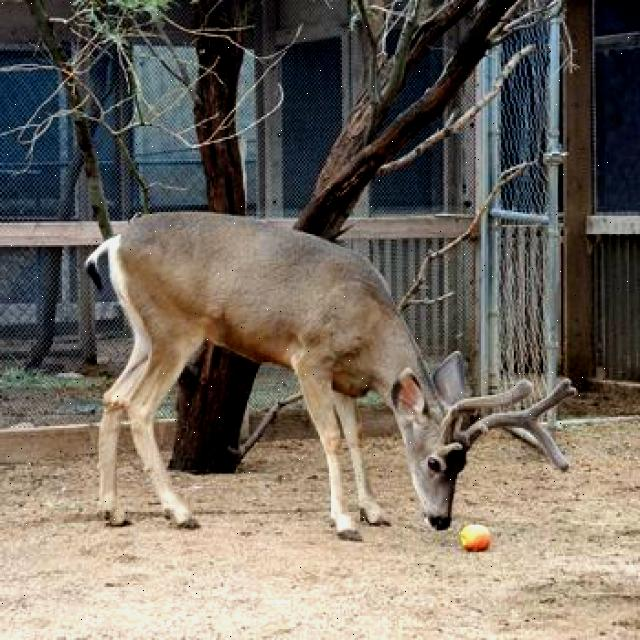deer: (351, 336, 560, 550)
